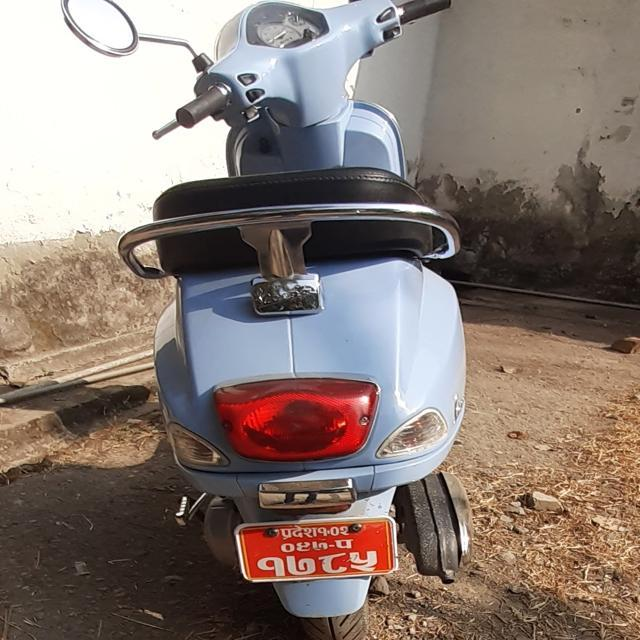license_plate: (212, 501, 440, 604)
